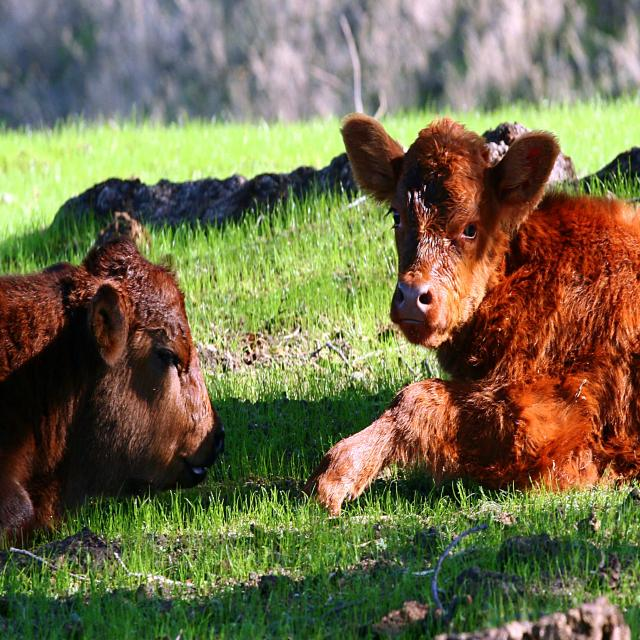cow: (305, 114, 640, 516), (0, 238, 224, 541)
